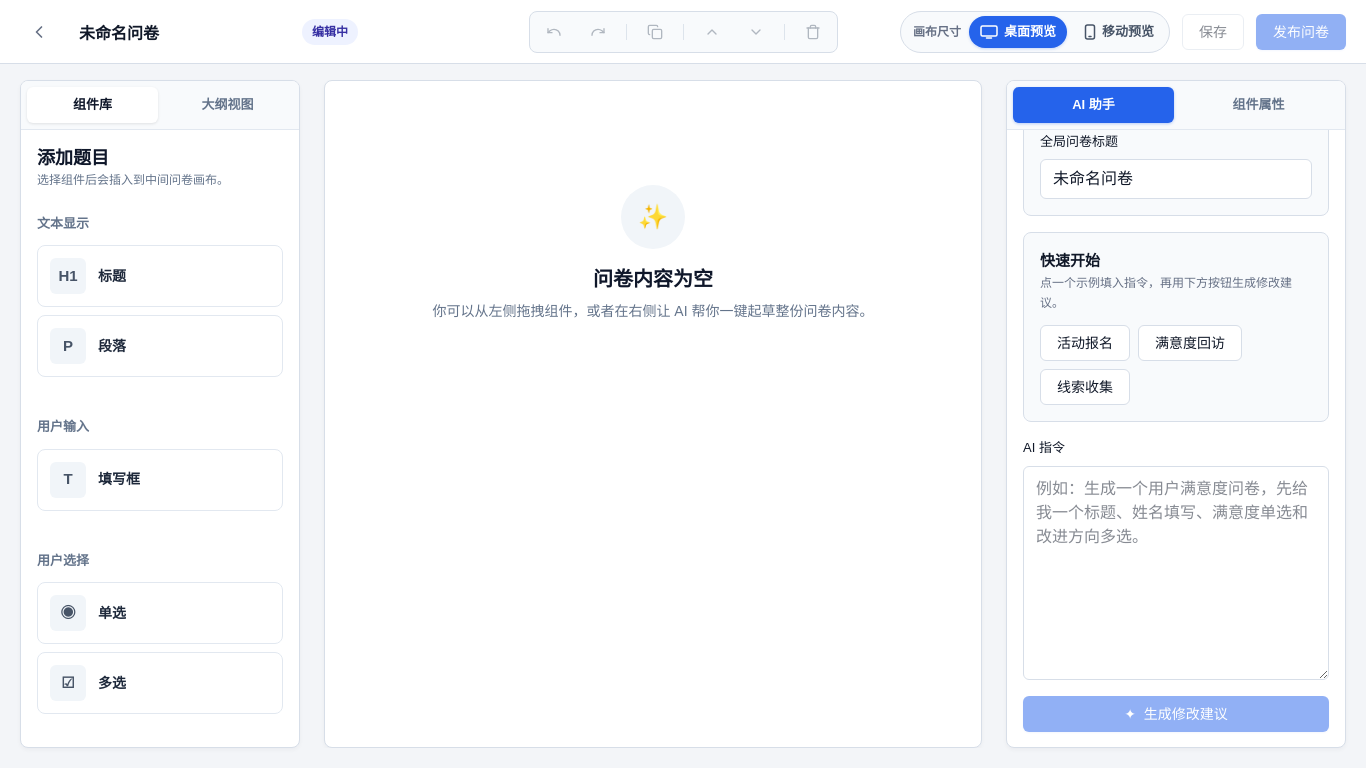
Test: EditorShell › applies ai generation directly when the current survey is empty
(page scrolled)
Type "生成一个活动报名问卷" into the text box named "AI prompt".
click(1176, 572); type("生成一个活动报名问卷")  # box x1=1023 y1=466 x2=1329 y2=680
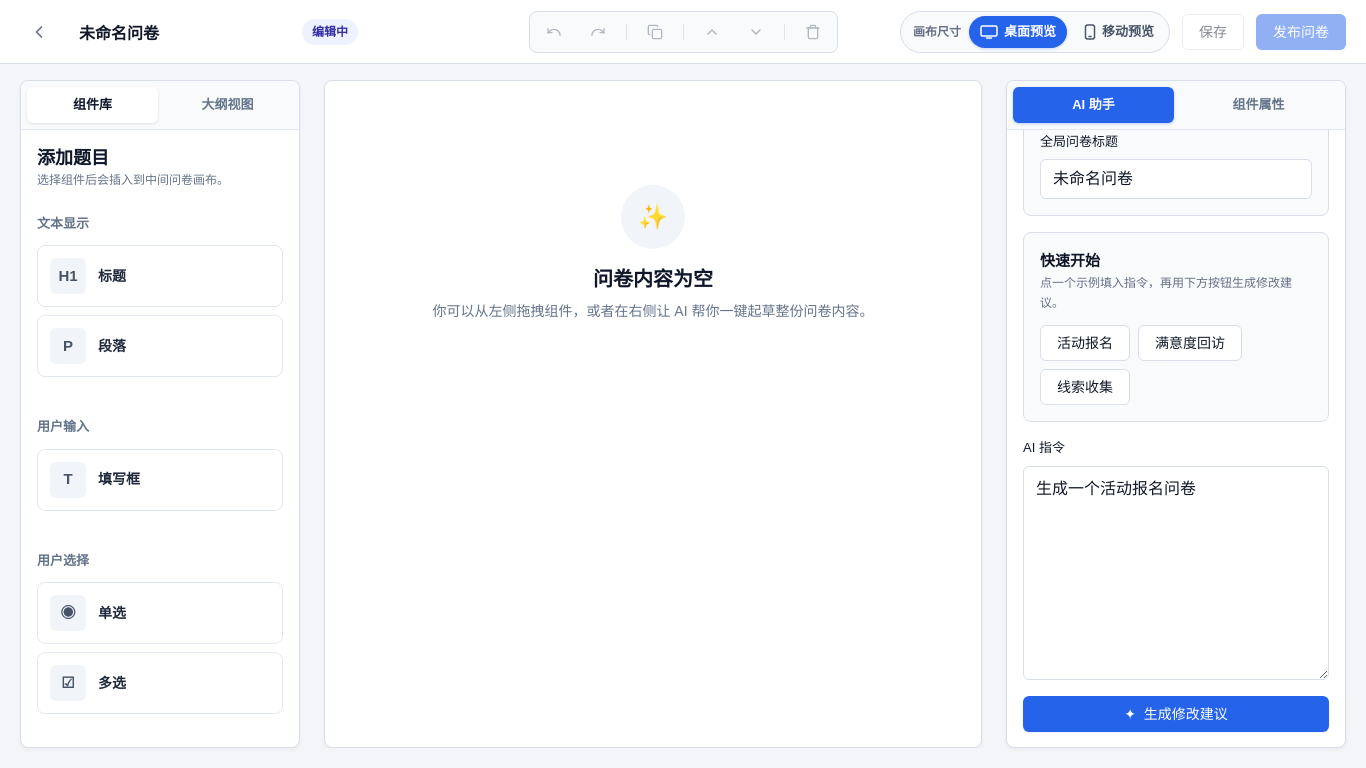
Click the button "✦ 生成修改建议".
click(1176, 714)  # box x1=1023 y1=696 x2=1329 y2=732
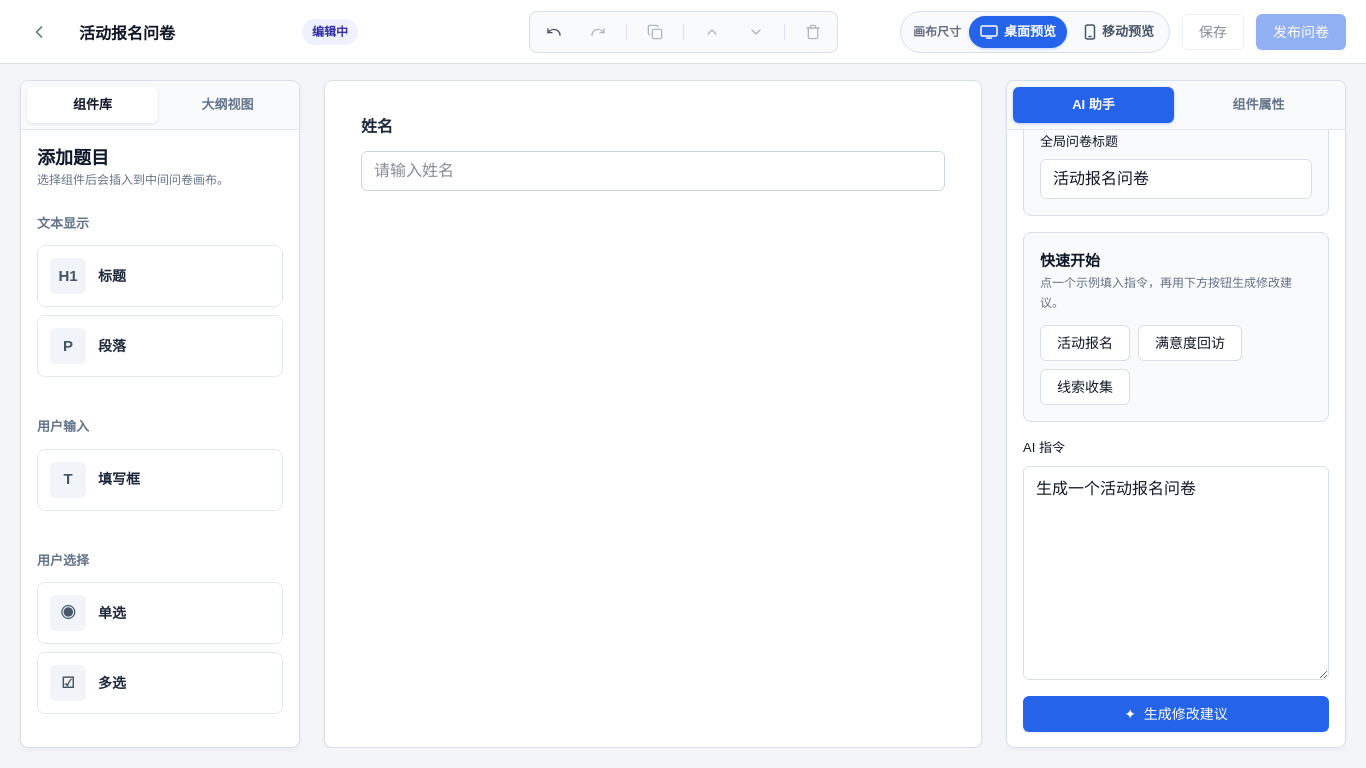
Expected: the field labelled "姓名" is shown, x1=361 y1=151 x2=945 y2=191
